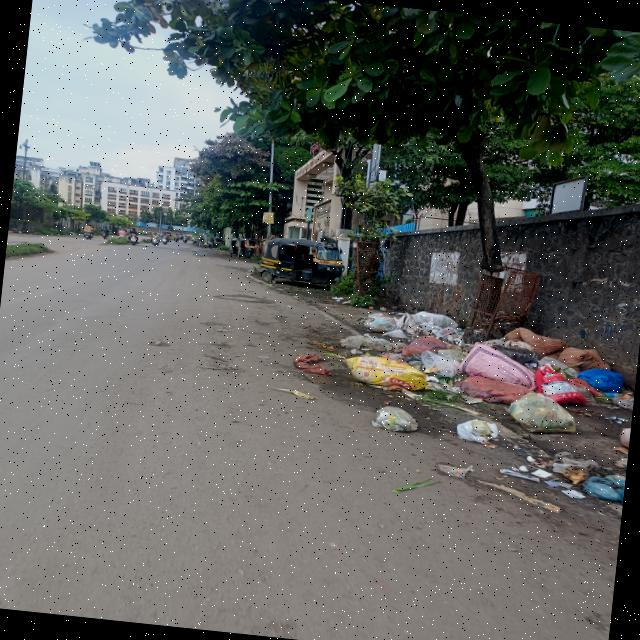garbage: (306, 298, 628, 455)
